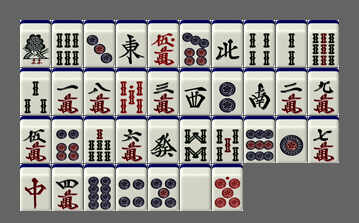0m: (148, 20, 179, 67)
0p: (212, 164, 243, 211)
0s: (116, 68, 147, 115)
1m: (52, 68, 83, 115)
1p: (276, 116, 307, 163)
1s: (20, 20, 51, 67)
1z: (116, 20, 147, 67)
2m: (276, 68, 307, 115)
2p: (212, 68, 243, 115)
2s: (276, 20, 307, 67)
2z: (244, 68, 275, 115)
3m: (148, 68, 179, 115)
3p: (84, 20, 115, 67)
3s: (20, 68, 51, 115)
3z: (180, 68, 211, 115)
4m: (52, 164, 83, 211)
4p: (116, 164, 147, 211)
4s: (244, 20, 275, 67)
4z: (212, 20, 243, 67)
5m: (20, 116, 51, 163)
5p: (148, 164, 179, 211)
5s: (212, 116, 243, 163)
5z: (180, 164, 211, 211)
6m: (116, 116, 147, 163)
6p: (52, 116, 83, 163)
6s: (52, 20, 83, 67)
6z: (148, 116, 179, 163)
7m: (308, 116, 339, 163)
7p: (180, 20, 211, 67)
7s: (84, 116, 115, 163)
7z: (20, 164, 51, 211)
8m: (84, 68, 115, 115)
8p: (84, 164, 115, 211)
8s: (180, 116, 211, 163)
9m: (308, 68, 339, 115)
9p: (244, 116, 275, 163)
9s: (308, 20, 339, 67)
